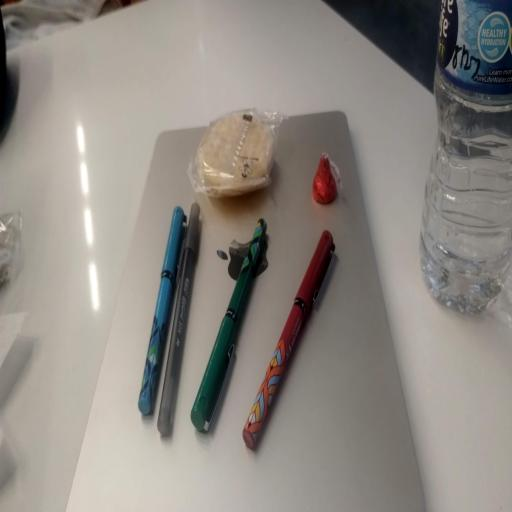chocolate: (308, 152, 347, 211)
pen: (243, 230, 335, 448), (191, 219, 266, 430), (138, 206, 186, 415), (158, 203, 199, 435)
waterbottle: (421, 0, 511, 312)
